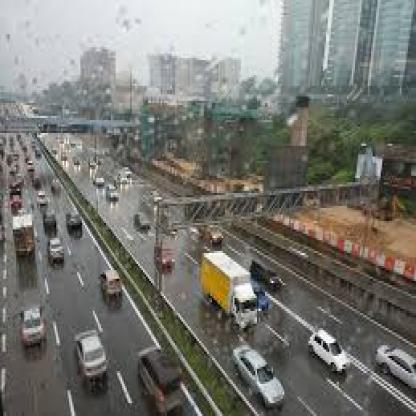car: (193, 245, 270, 339), (228, 334, 289, 413), (134, 334, 184, 416), (72, 325, 117, 390), (303, 322, 356, 374), (371, 336, 416, 394), (13, 289, 52, 350), (250, 251, 291, 296), (11, 212, 41, 264), (58, 204, 87, 237), (99, 263, 124, 301), (201, 221, 230, 252), (153, 238, 179, 272), (128, 205, 152, 237), (37, 210, 64, 237), (47, 235, 67, 270), (92, 169, 110, 195), (8, 192, 30, 212), (104, 179, 120, 206), (115, 163, 134, 183), (36, 192, 50, 211)
